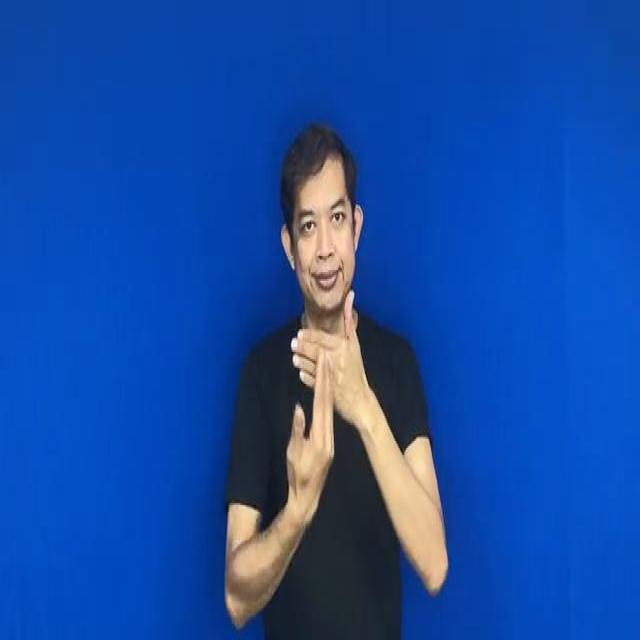bread: (276, 299, 380, 506)
